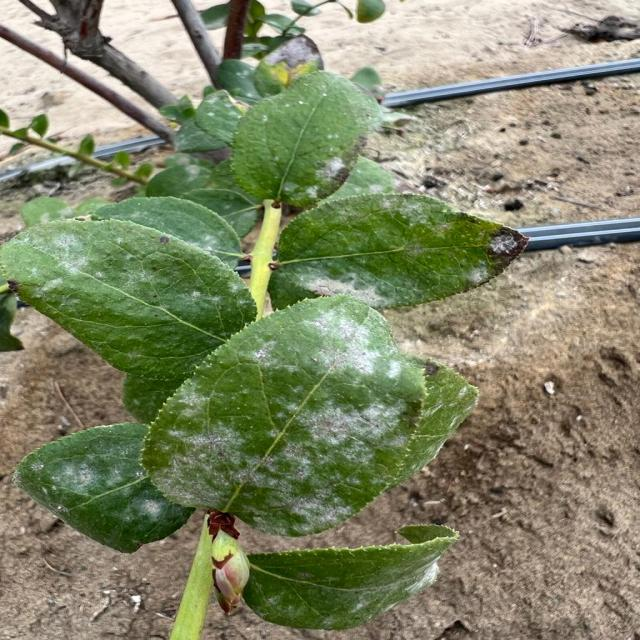Hojas con oidiosis: (160, 304, 413, 524), (21, 224, 235, 358), (272, 198, 529, 299), (250, 554, 450, 624), (38, 444, 172, 533), (277, 76, 348, 191)
